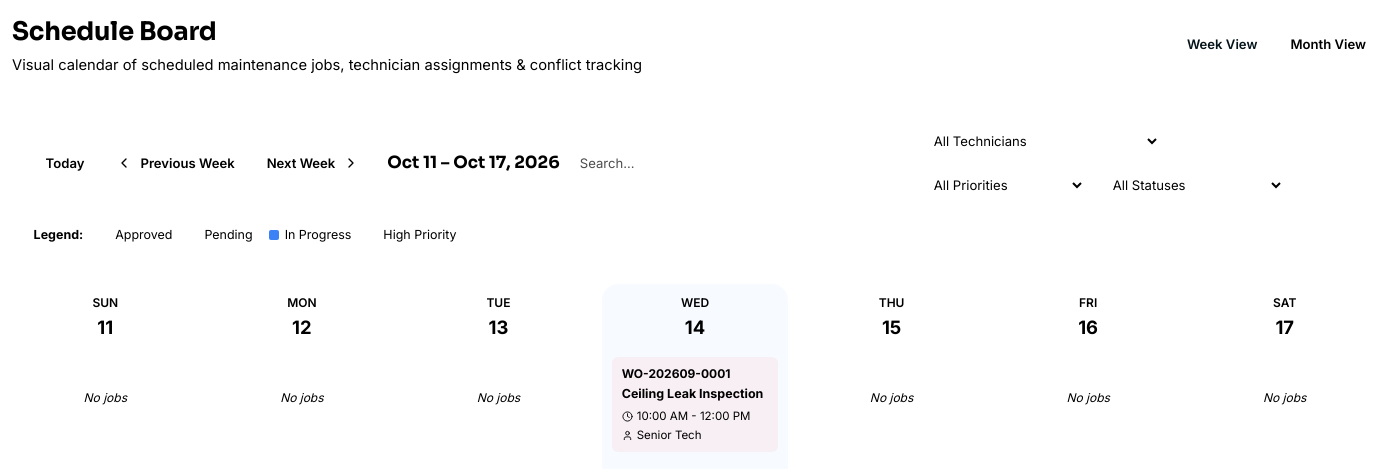
Test case: Schedule Board filter layout (CalendarPage) › filters calendar events by the search text and restores them when cleared
The image size is (1390, 469).
expect the text "Ceiling Leak Inspection" is shown: met, box [622, 385, 768, 404]
Type "plumbing" into the field with placeholder "Search..." at (740, 163), box [570, 149, 910, 177]
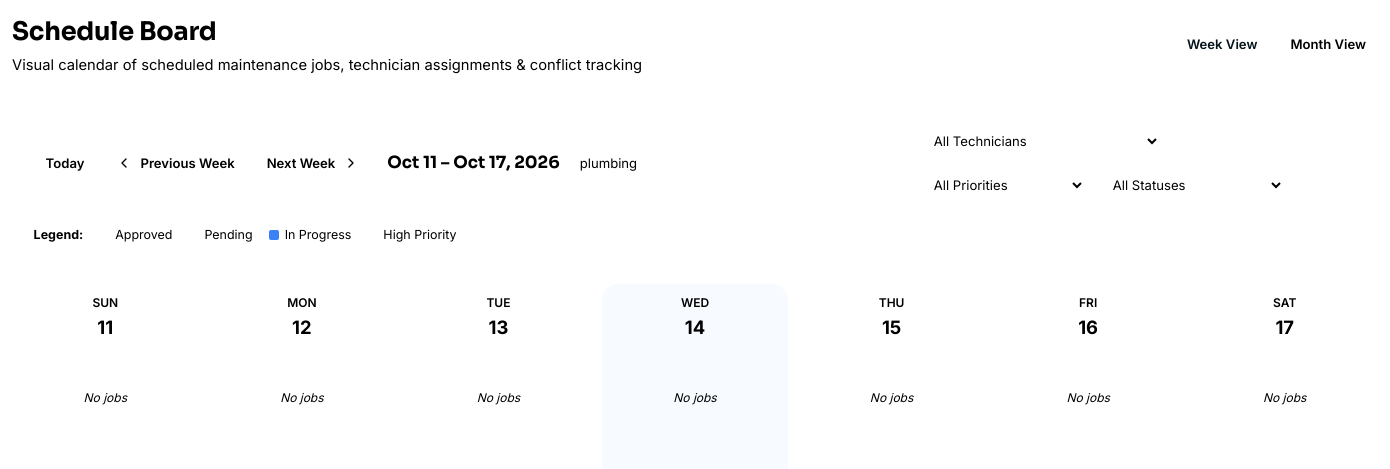
expect the text "Ceiling Leak Inspection" is gone: met
Replace the text in the field with placeholder "Search..." with "Ceiling" at (740, 163), box [570, 149, 910, 177]
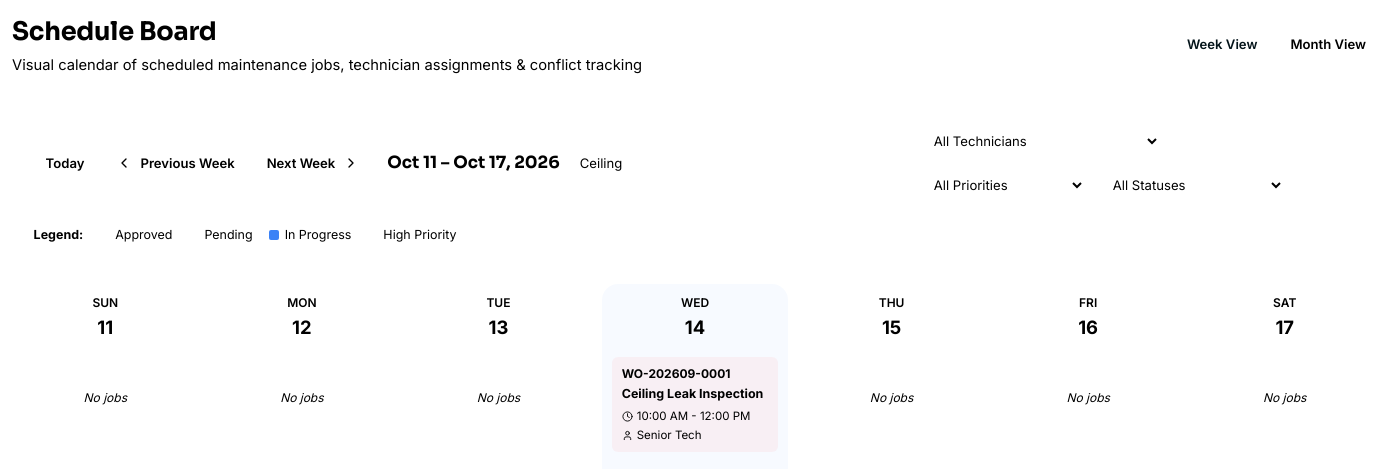
expect the text "Ceiling Leak Inspection" is shown: met, box [622, 385, 768, 404]
